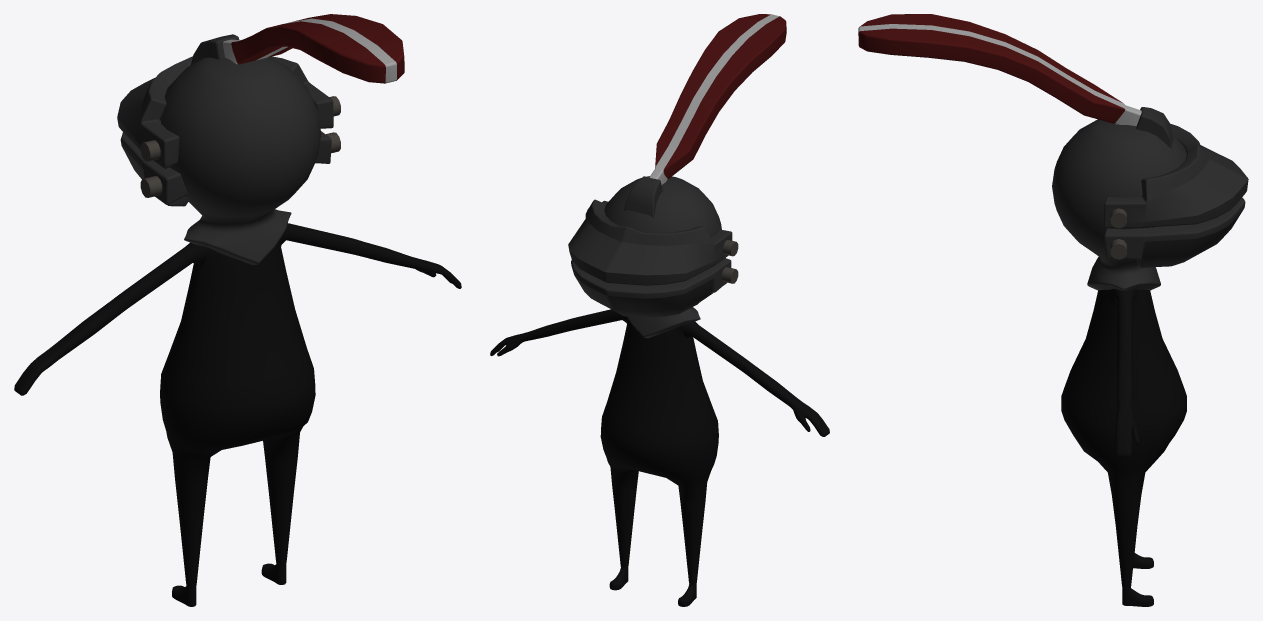
Rendered from Enemy01.fbx.
3 views of the same model, side by side, from view 1: azimuth 30°, elevation 25°; view 2: azimuth 150°, elevation 25°; view 3: azimuth 270°, elevation 25° (orthographic). The views are drawn at different scales.
Parts seen in each view (by area): view 1: Enemy01; view 2: Enemy01; view 3: Enemy01.
Boxes of the visible parts, <box> form: Enemy01: <box>14,14,461,606</box>; Enemy01: <box>490,14,829,606</box>; Enemy01: <box>858,14,1248,606</box>.
Size of the model in its own units: 60.62 by 84.74 by 53.61.
